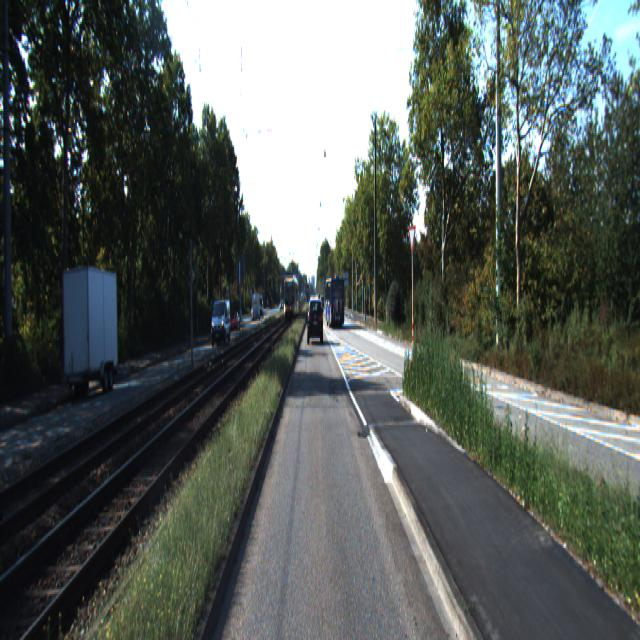Car: (62, 268, 120, 404), (324, 278, 345, 330), (210, 301, 232, 348), (308, 300, 323, 346)
